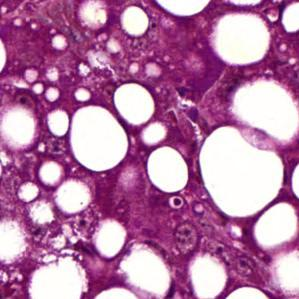steatosis: (72, 103, 128, 176), (207, 13, 272, 66), (119, 3, 152, 36)
